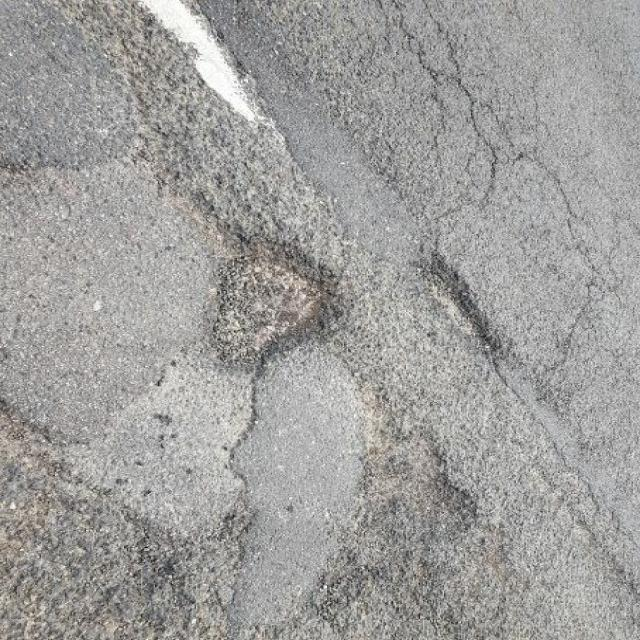pothole: (202, 224, 356, 377), (345, 409, 488, 527), (420, 255, 496, 349)
